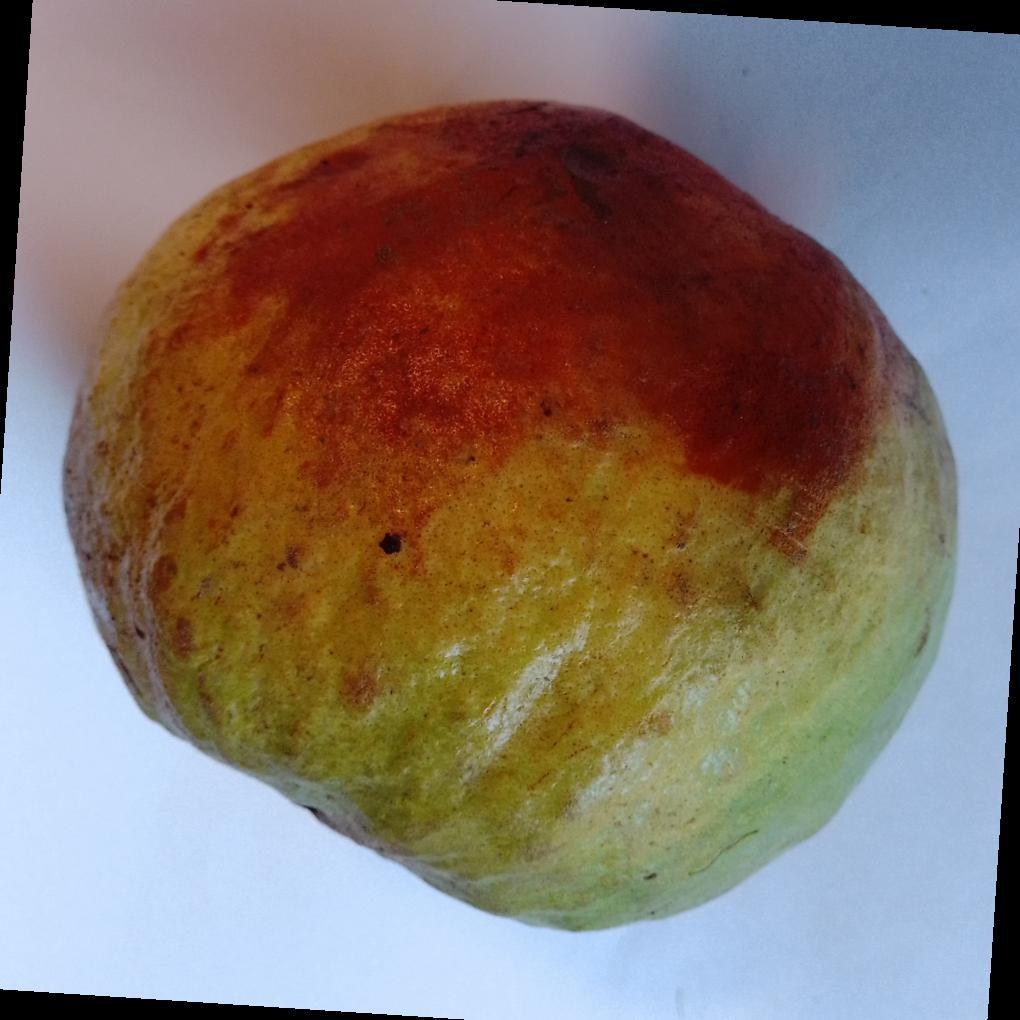FreshOrange: (59, 99, 959, 937)
